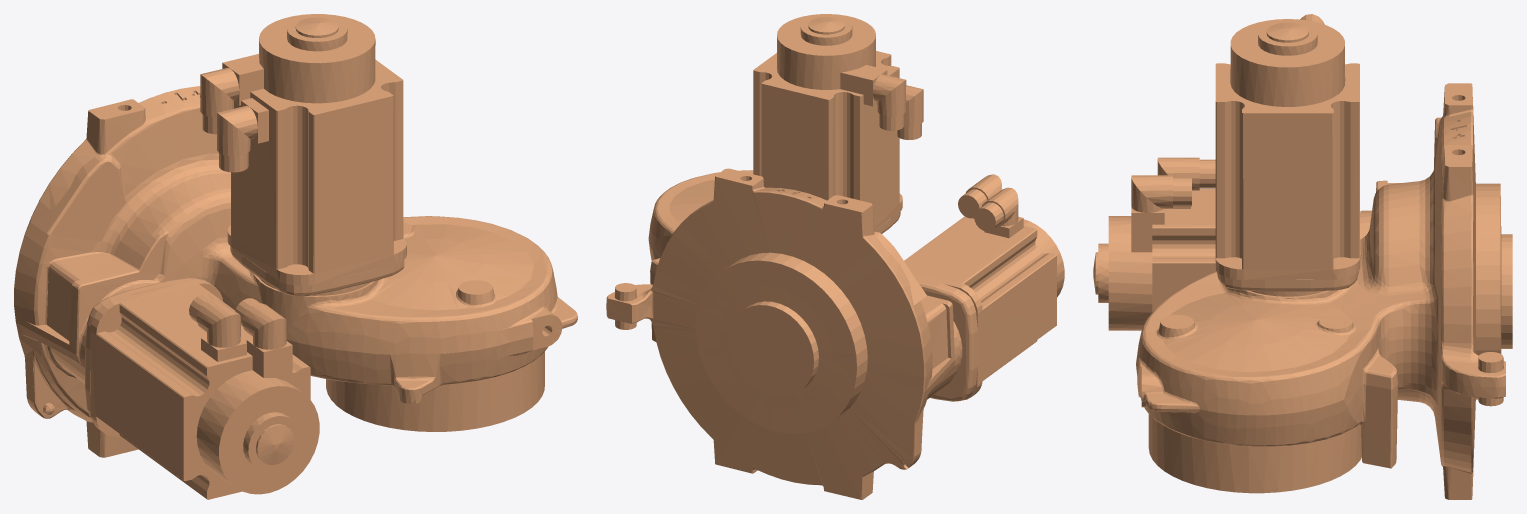
3 renders of one model, left to right at view 1: azimuth 30°, elevation 25°; view 2: azimuth 150°, elevation 25°; view 3: azimuth 270°, elevation 25°, orthographic. The views are drawn at different scales.
Visible parts, largest first — view 1: /Link_1/Link_1-mesh/0; view 2: /Link_1/Link_1-mesh/0; view 3: /Link_1/Link_1-mesh/0.
Boxes of the visible parts, x1,y1,x2,y2 form: /Link_1/Link_1-mesh/0: (14,14,577,499); /Link_1/Link_1-mesh/0: (606,14,1064,499); /Link_1/Link_1-mesh/0: (1093,14,1512,499).
Bounding box in the file's own units: 0.4143 × 0.4349 × 0.3653.
